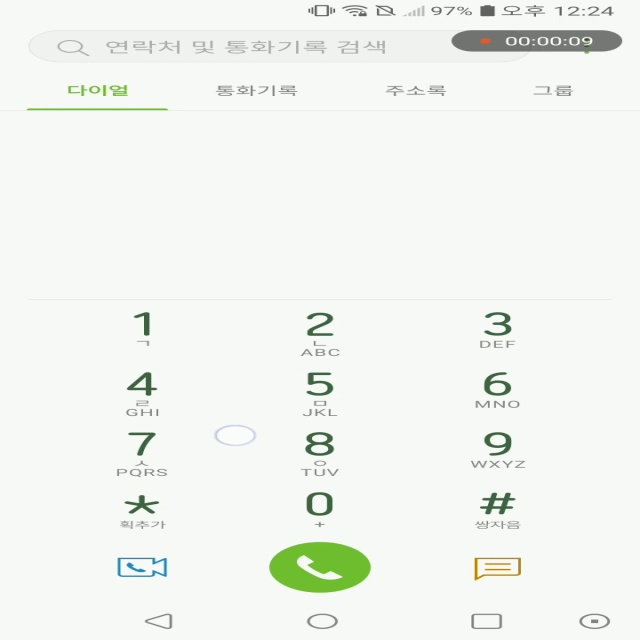Cursor: (214, 425, 258, 447)
